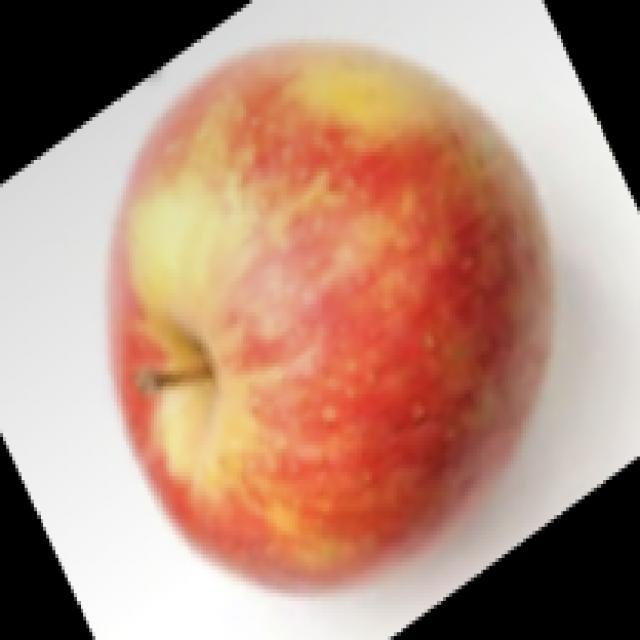Fresh Apple: (140, 48, 527, 545)
